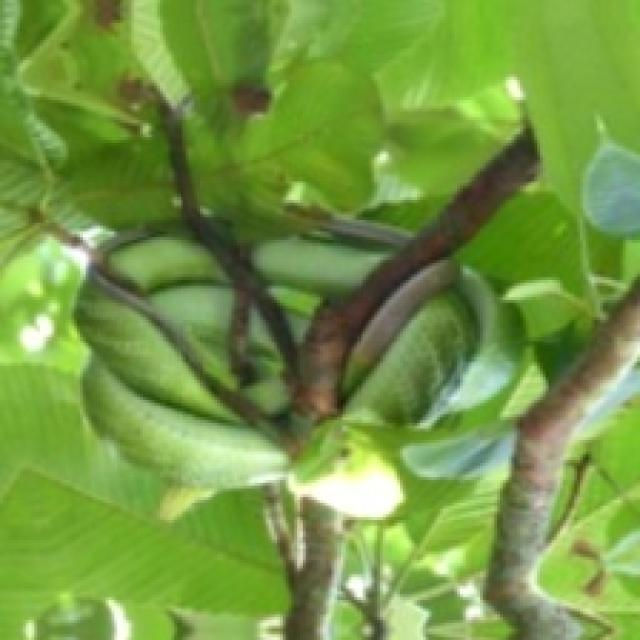red-tailed green ratsnake: (75, 236, 288, 488), (345, 260, 480, 426), (255, 238, 388, 331)
